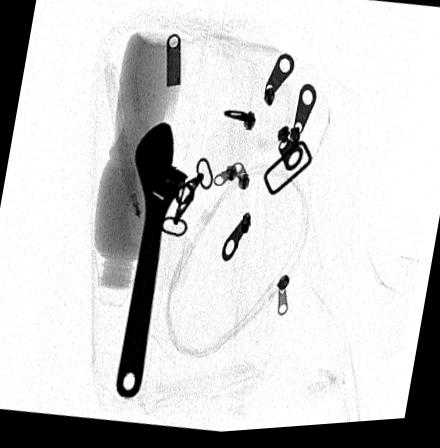Wrench: (114, 124, 187, 400)
